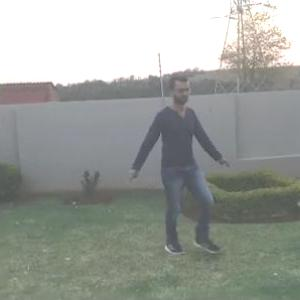land: (116, 69, 234, 267)
